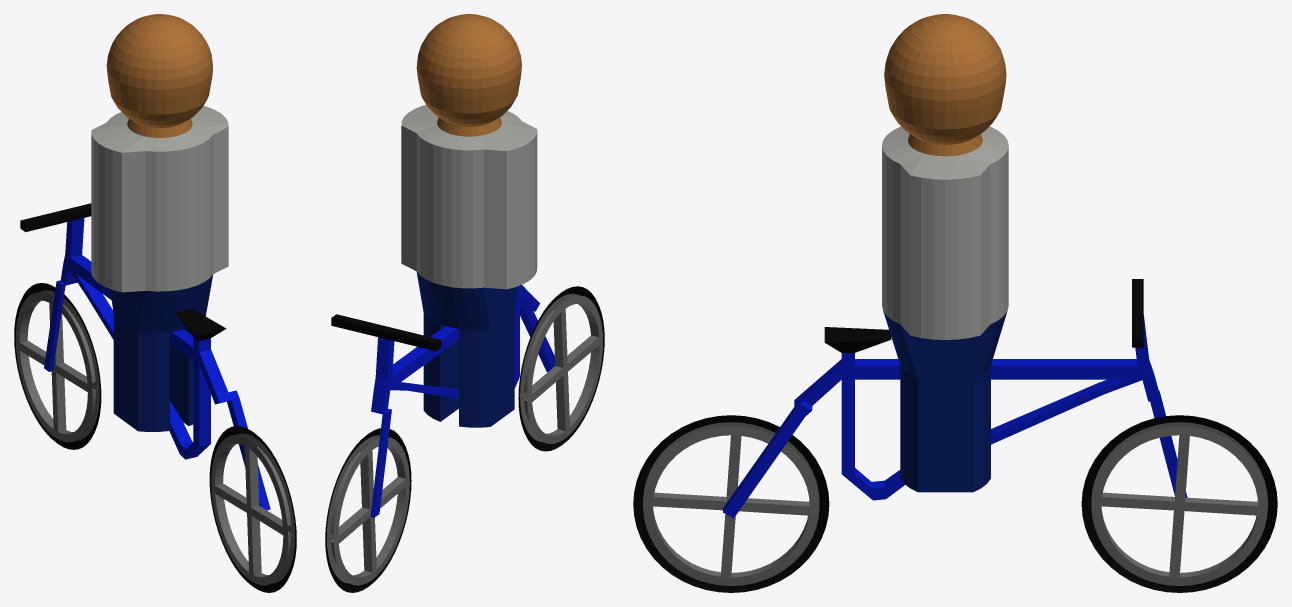
File: Bicycle.obj
The picture shows the model from 3 angles, left to right: view 1: azimuth 30°, elevation 25°; view 2: azimuth 150°, elevation 25°; view 3: azimuth 270°, elevation 25°; orthographic projection. The views are drawn at different scales.
Parts seen in each view (by area): view 1: pedestrian_Sphere, Bicycle_Cube; view 2: pedestrian_Sphere, Bicycle_Cube; view 3: pedestrian_Sphere, Bicycle_Cube.
Boxes of the visible parts, x1,y1,x2,y2 form: pedestrian_Sphere: (91, 14, 228, 431); Bicycle_Cube: (14, 203, 296, 592); pedestrian_Sphere: (401, 14, 537, 427); Bicycle_Cube: (325, 285, 604, 592); pedestrian_Sphere: (882, 14, 1008, 492); Bicycle_Cube: (633, 279, 1277, 592).
Size of the model in its own units: 0.7291 by 2.84 by 2.89.
